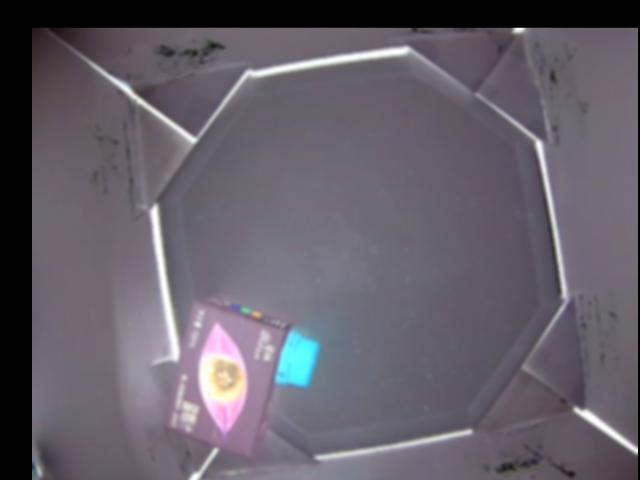Bottle: (165, 294, 317, 460)
